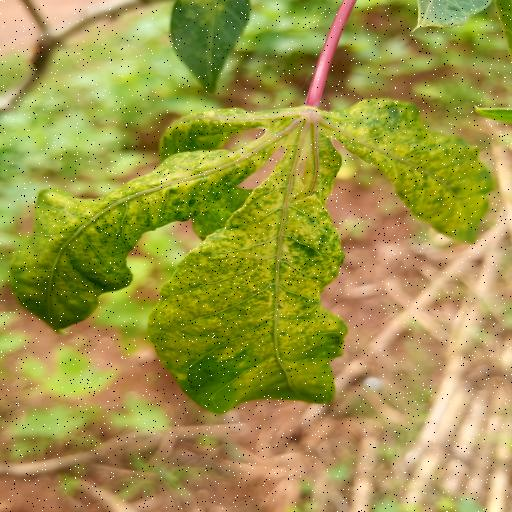Cassava_Mosaic: (3, 97, 512, 413)
